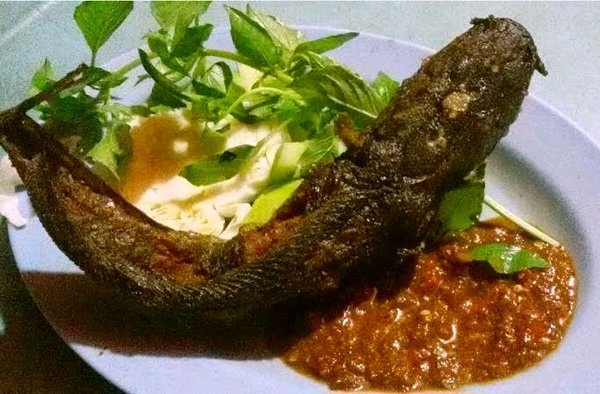pecel_lele: (313, 4, 542, 224)
